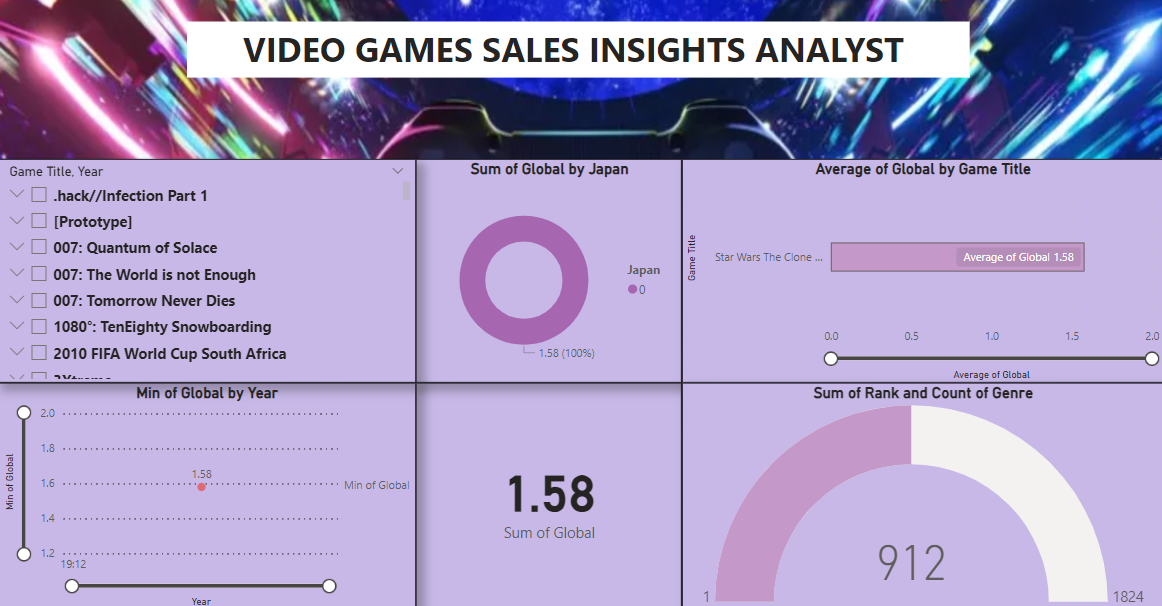

What the dashboard file says about the page in this screenshot:
{"tool":"powerbi","page":{"name":"Page 1","canvas":[1280,720],"ordinal":0},"visuals":[{"type":"card","fields":{"Values":["Sum(Video Games Sales (2).Global)"]},"box":[459.7,470.7,292.3,249.7],"z":0},{"type":"donutChart","fields":{"Y":["Sum(Video Games Sales (2).Global)"],"Category":["Video Games Sales (2).Japan"]},"box":[459.7,225,292.3,245.6],"z":1000},{"type":"barChart","fields":{"Y":["Avg(Video Games Sales (2).Global)"],"Category":["Video Games Sales (2).Game Title"]},"box":[752,225,528.3,245.6],"z":2000},{"type":"lineChart","fields":{"Category":["Video Games Sales (2).Year.Variation.Date Hierarchy.Year","Video Games Sales (2).Year.Variation.Date Hierarchy.Quarter","Video Games Sales (2).Year.Variation.Date Hierarchy.Month","Video Games Sales (2).Year.Variation.Date Hierarchy.Day"],"Y":["Min(Video Games Sales (2).Global)"]},"box":[0,470.7,459.7,249.7],"z":3000},{"type":"gauge","fields":{"MinValue":["CountNonNull(Video Games Sales (2).Genre)"],"Y":["Sum(Video Games Sales (2).Rank)"]},"box":[752,470.7,528.3,249.7],"z":4000},{"type":"slicer","fields":{"Values":["Video Games Sales (2).Game Title","Video Games Sales (2).Year"]},"box":[0,225,459.7,245.6],"z":5000},{"type":"actionButton","box":[0,0,100,40],"z":6000},{"type":"textbox","box":[208.6,74.1,859,61.7],"z":7000}]}

Visuals, with their boxes in screenshot pixels (x1, y1, x2, y2):
card - Sum(Video Games Sales (2).Global): 419,380,679,603
donutChart - Sum(Video Games Sales (2).Global) x Video Games Sales (2).Japan: 419,161,679,380
barChart - Avg(Video Games Sales (2).Global) x Video Games Sales (2).Game Title: 679,161,1150,380
lineChart - Video Games Sales (2).Year.Variation.Date Hierarchy.Year x Video Games Sales (2).Year.Variation.Date Hierarchy.Quarter: 9,380,419,603
gauge - CountNonNull(Video Games Sales (2).Genre) x Sum(Video Games Sales (2).Rank): 679,380,1150,603
slicer - Video Games Sales (2).Game Title x Video Games Sales (2).Year: 9,161,419,380
textbox: 195,27,960,82
